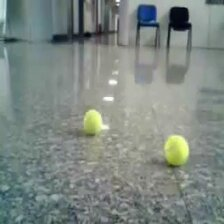tennis: (164, 135, 189, 164), (83, 109, 100, 133)
